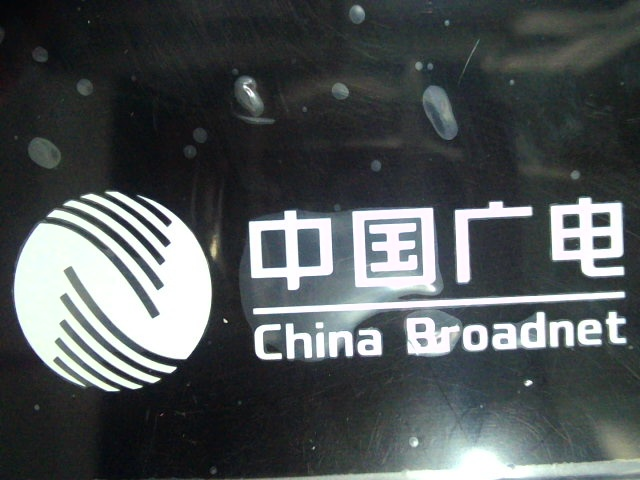AW_ChinaBroadNet: (13, 180, 637, 390)
